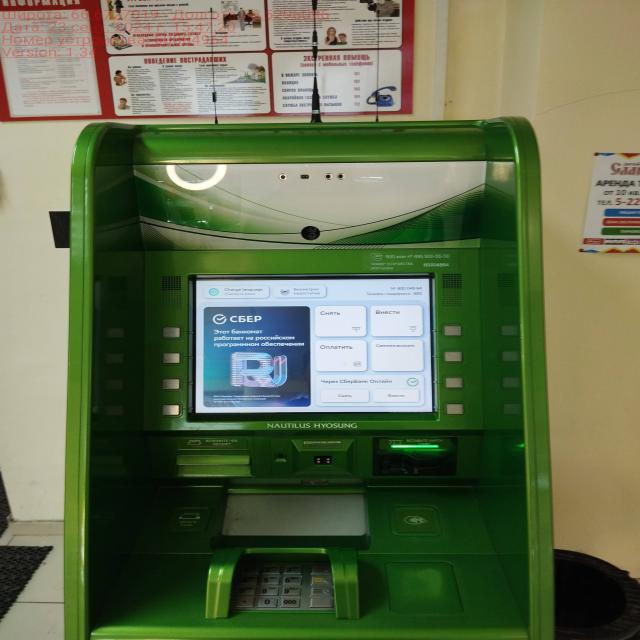bank: (69, 116, 561, 640)
